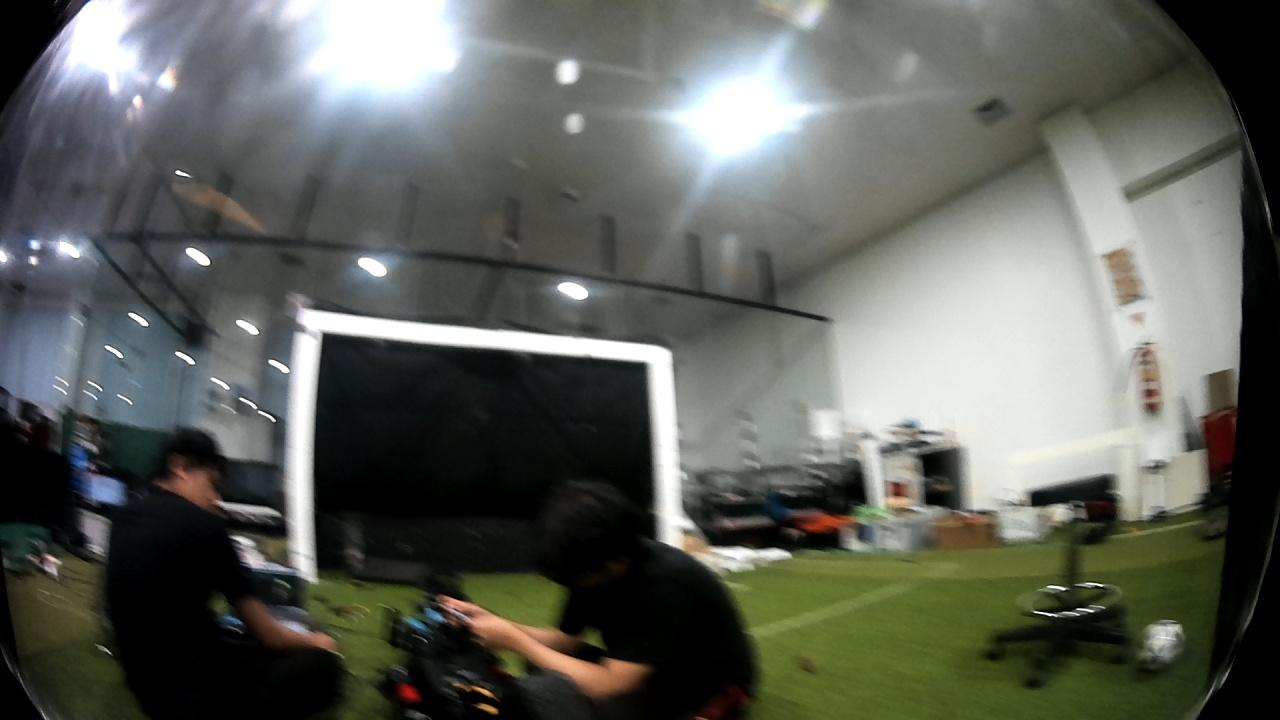ball: (1133, 612, 1189, 676)
